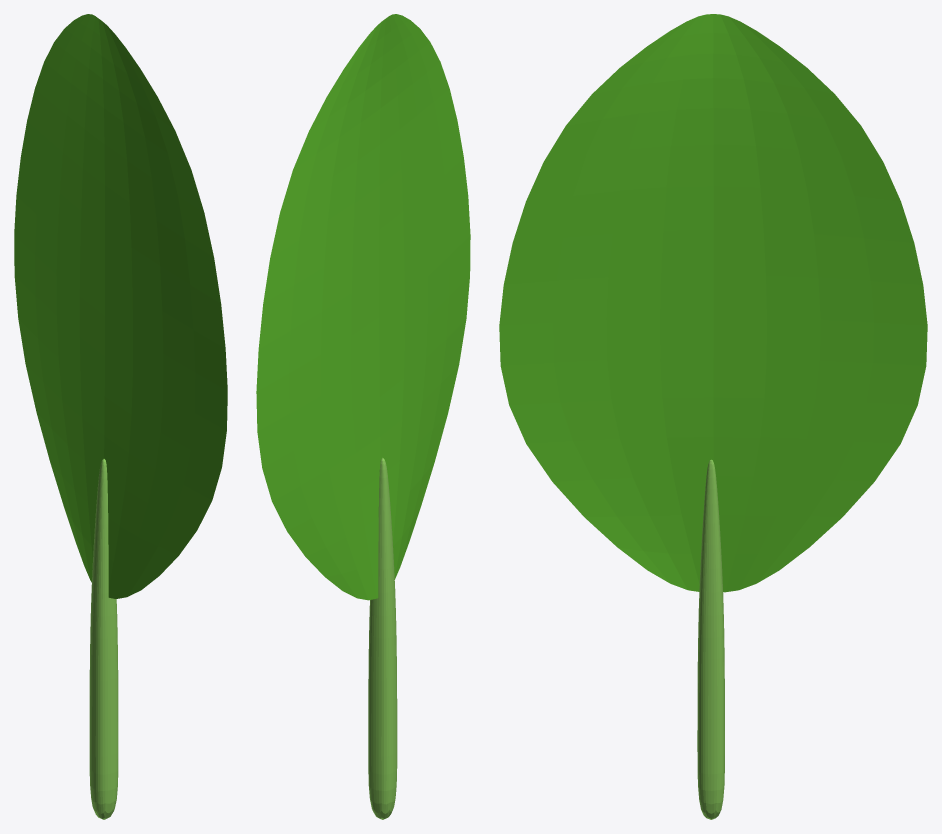
File: strwLeaf.fbx
The picture shows the model from 3 angles, left to right: view 1: azimuth 30°, elevation 25°; view 2: azimuth 150°, elevation 25°; view 3: azimuth 270°, elevation 25°; orthographic projection.
Parts seen in each view (by area): view 1: Stem.006; view 2: Stem.006; view 3: Stem.006.
Part boxes in pixels (x1,y1,x2,y2): Stem.006: [14, 14, 227, 819]; Stem.006: [256, 14, 470, 819]; Stem.006: [499, 14, 927, 819].
Size of the model in its own units: 6.36 by 162 by 78.38.
